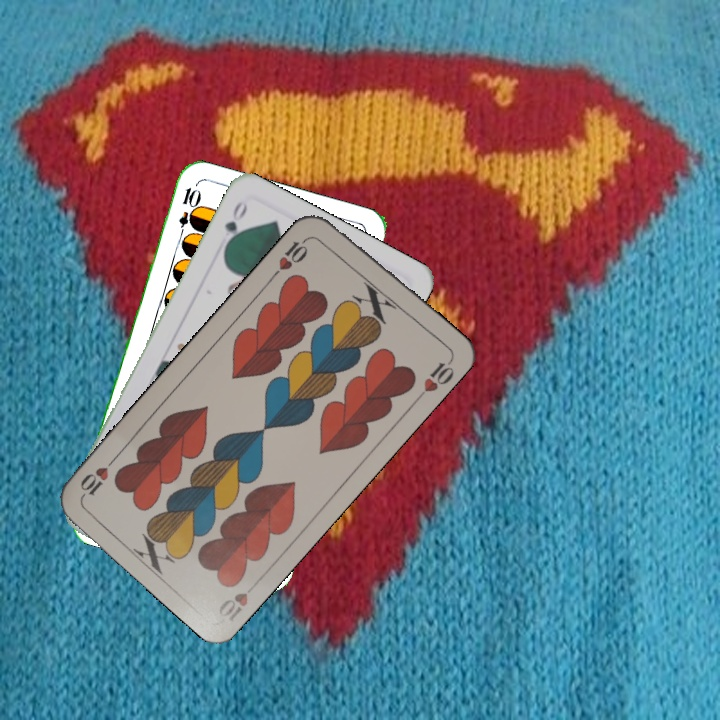E10: (174, 183, 199, 242)
GO: (220, 197, 251, 253)
H10: (268, 232, 314, 280), (214, 587, 251, 624)
